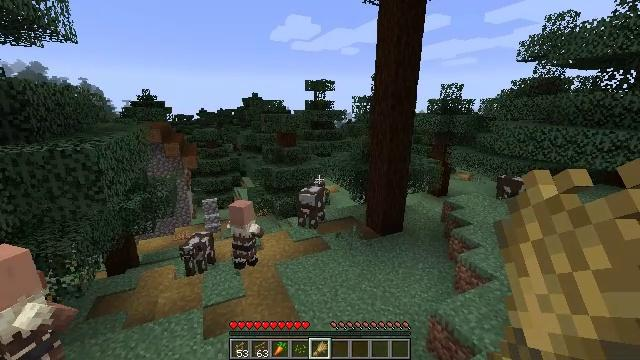cow: (180, 231, 217, 278), (297, 179, 328, 227), (494, 175, 526, 204)
